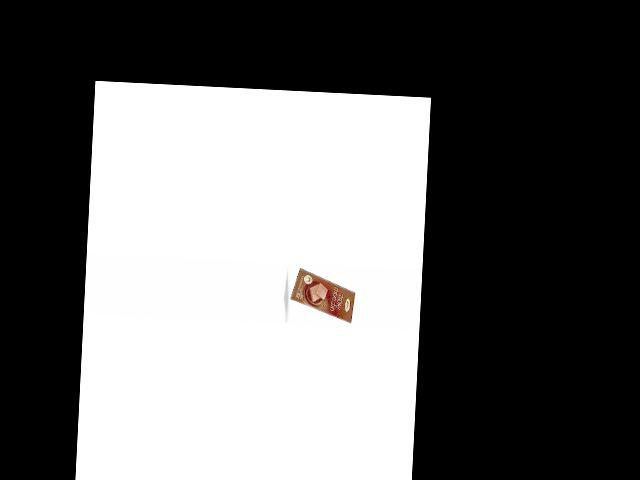chocolate: (286, 265, 357, 324)
